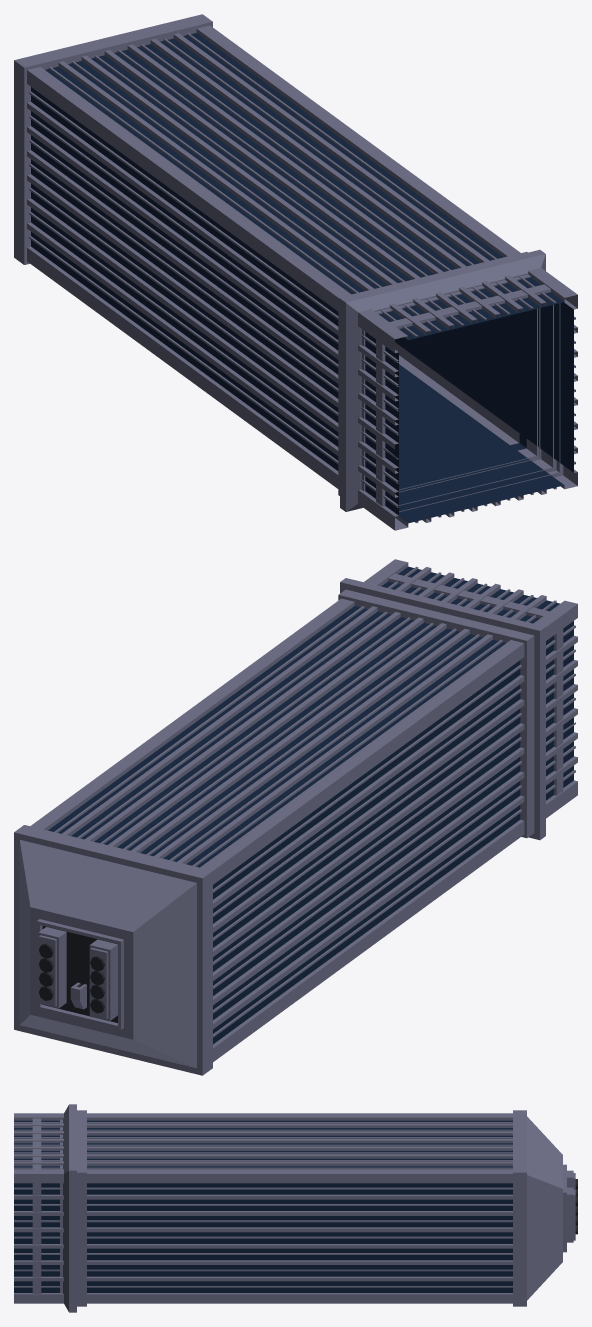
Rendered from Skyscr_01_A.dae.
The picture shows the model from 3 angles, top to bottom: view 1: azimuth 30°, elevation 25°; view 2: azimuth 150°, elevation 25°; view 3: azimuth 270°, elevation 25°; orthographic projection. The views are drawn at different scales.
Visible parts, largest first — view 1: Skyscr_01_A; view 2: Skyscr_01_A; view 3: Skyscr_01_A.
Part boxes in pixels (bbox=[...]): Skyscr_01_A: bbox=[14, 14, 577, 530]; Skyscr_01_A: bbox=[14, 559, 577, 1075]; Skyscr_01_A: bbox=[14, 1104, 577, 1312].
Size of the model in its own units: 0.3722 by 1.34 by 0.3722.
